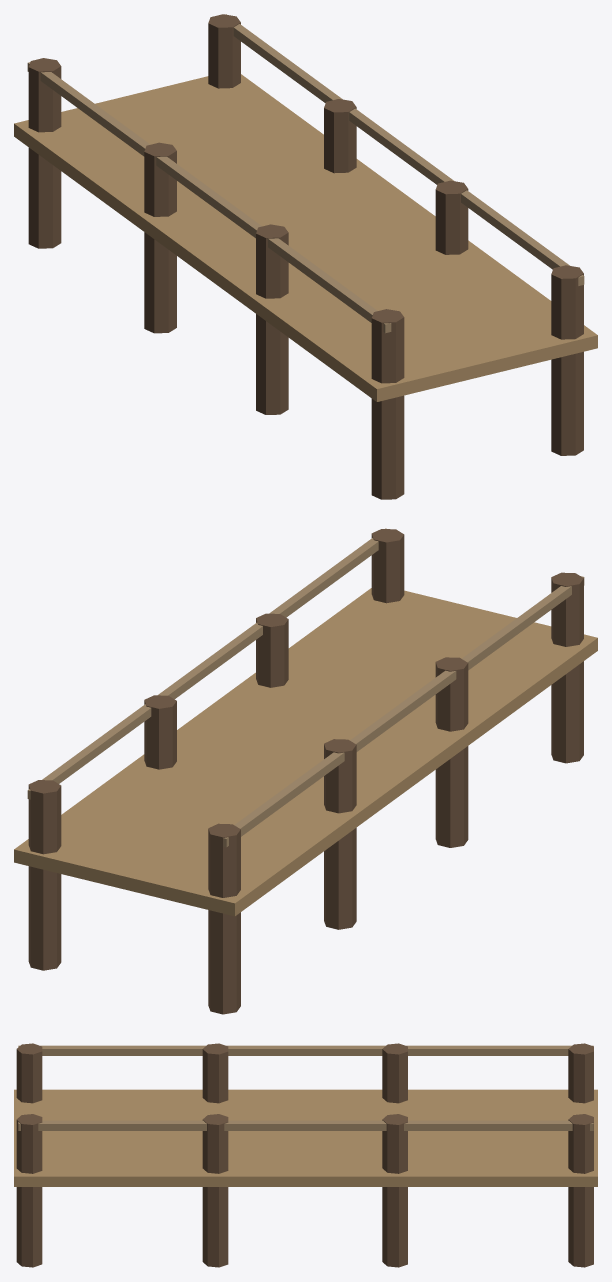
File: fishing-pier.glb
3 views of the same model, one above another, from view 1: azimuth 30°, elevation 25°; view 2: azimuth 150°, elevation 25°; view 3: azimuth 270°, elevation 25° (orthographic). The views are drawn at different scales.
Parts seen in each view (by area): view 1: fishing-pier; view 2: fishing-pier; view 3: fishing-pier.
Part boxes in pixels (<box>): fishing-pier: <box>14,14,597,499</box>; fishing-pier: <box>14,528,597,1014</box>; fishing-pier: <box>14,1043,597,1267</box>.
Bounding box in the file's own units: 3.2 × 2.45 × 9.1.
